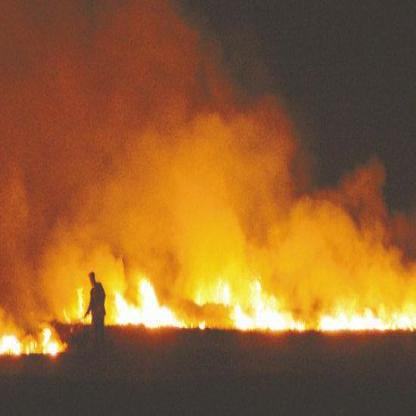fire: (110, 267, 414, 332), (0, 306, 68, 356)
smoke: (98, 103, 398, 286)
